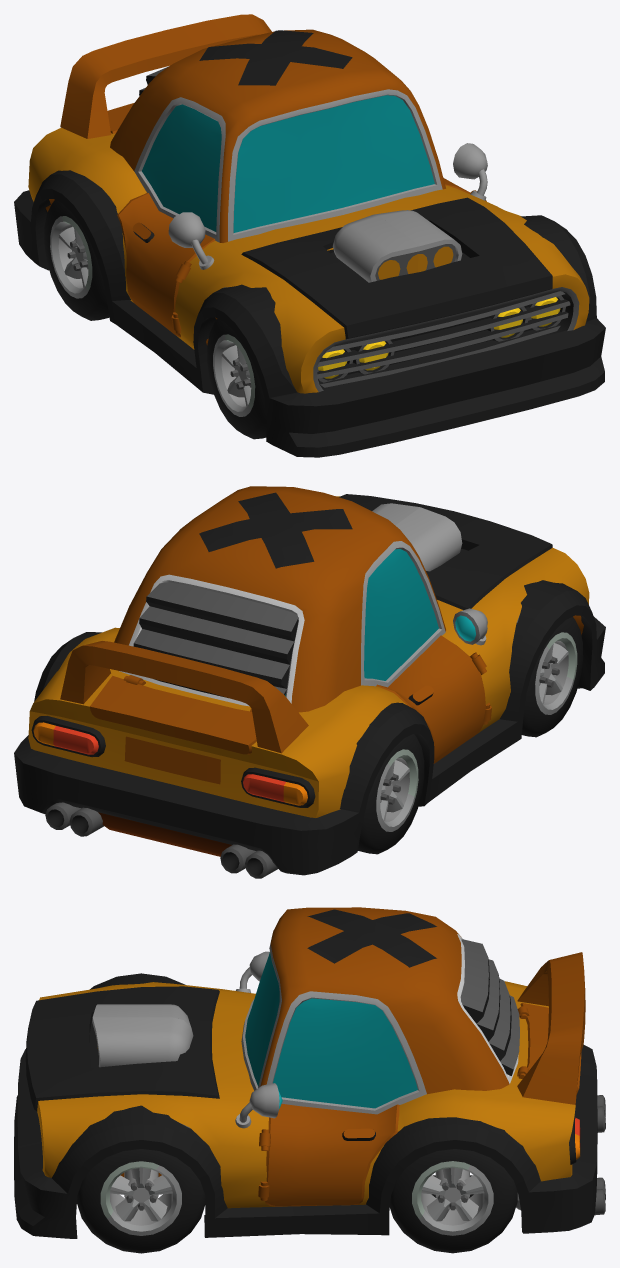
The model's file is VEH4-C.fbx.
The picture shows the model from 3 angles, top to bottom: view 1: azimuth 30°, elevation 25°; view 2: azimuth 150°, elevation 25°; view 3: azimuth 270°, elevation 25°; orthographic projection. The views are drawn at different scales.
Visible parts, largest first — view 1: VEH4_C, V4C_Wheel_BR, V4C_Wheel_FR; view 2: VEH4_C, V4C_Wheel_BR, V4C_Wheel_FR; view 3: VEH4_C, V4C_Wheel_FL, V4C_Wheel_BL.
Part boxes in pixels (bbox=[...]): VEH4_C: bbox=[14, 14, 605, 457]; V4C_Wheel_BR: bbox=[44, 200, 109, 320]; V4C_Wheel_FR: bbox=[207, 318, 266, 439]; VEH4_C: bbox=[14, 486, 605, 878]; V4C_Wheel_BR: bbox=[358, 734, 424, 854]; V4C_Wheel_FR: bbox=[522, 616, 583, 737]; VEH4_C: bbox=[14, 907, 605, 1238]; V4C_Wheel_FL: bbox=[77, 1149, 205, 1253]; V4C_Wheel_BL: bbox=[390, 1149, 517, 1253].
Bounding box in the file's own units: 262 × 190 × 406.
Materials: 1 (1 with a texture image).
